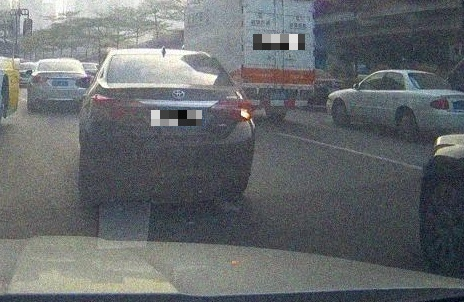L_light: (91, 94, 143, 118)
R_light: (208, 98, 252, 120)
T_light: (161, 78, 190, 84)
day-right: (79, 47, 256, 205)
plate_1: (151, 110, 202, 126)
plate_2: (253, 34, 305, 50)
